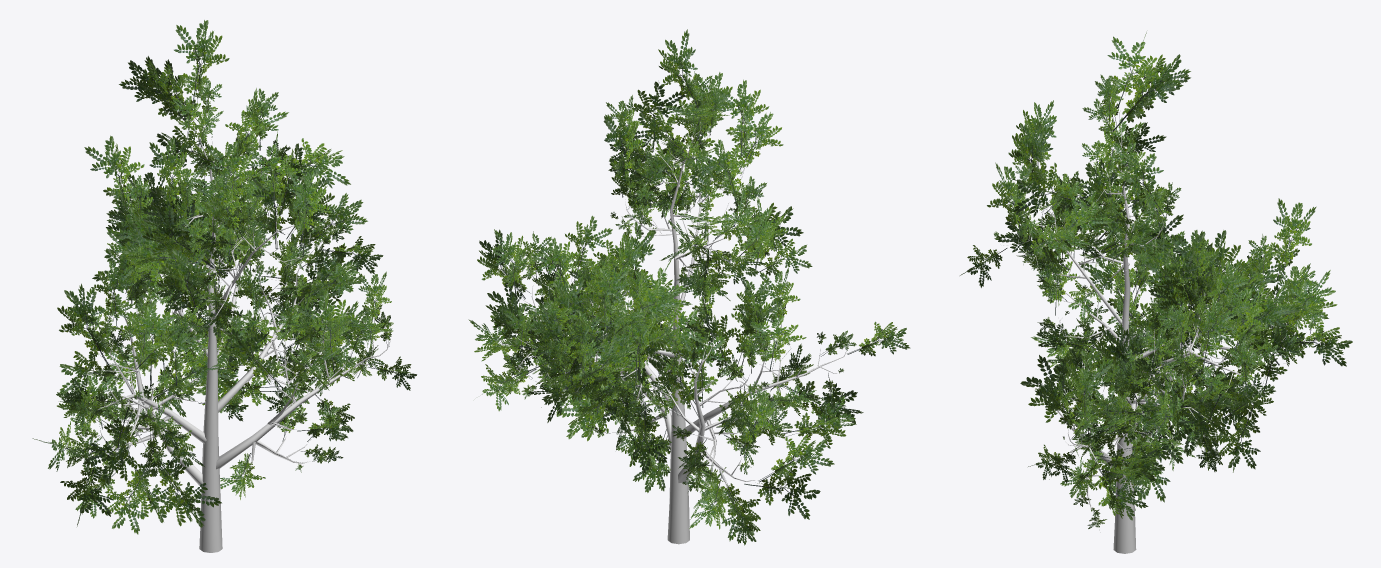
The model's file is TreeT1_LOD1.fbx.
3 renders of one model, left to right at view 1: azimuth 30°, elevation 25°; view 2: azimuth 150°, elevation 25°; view 3: azimuth 270°, elevation 25°, orthographic. The views are drawn at different scales.
Parts seen in each view (by area): view 1: Leaves_LOD1, Branches_LOD1; view 2: Leaves_LOD1, Branches_LOD1; view 3: Leaves_LOD1, Branches_LOD1.
Part boxes in pixels (left/top/right/bottom): Leaves_LOD1: left=32, top=20, right=416, bottom=534; Branches_LOD1: left=89, top=119, right=390, bottom=552; Leaves_LOD1: left=468, top=29, right=910, bottom=545; Branches_LOD1: left=516, top=122, right=847, bottom=544; Leaves_LOD1: left=960, top=32, right=1352, bottom=528; Branches_LOD1: left=1001, top=112, right=1310, bottom=553.
Bounding box in the file's own units: 7848 × 9970 × 7247.
